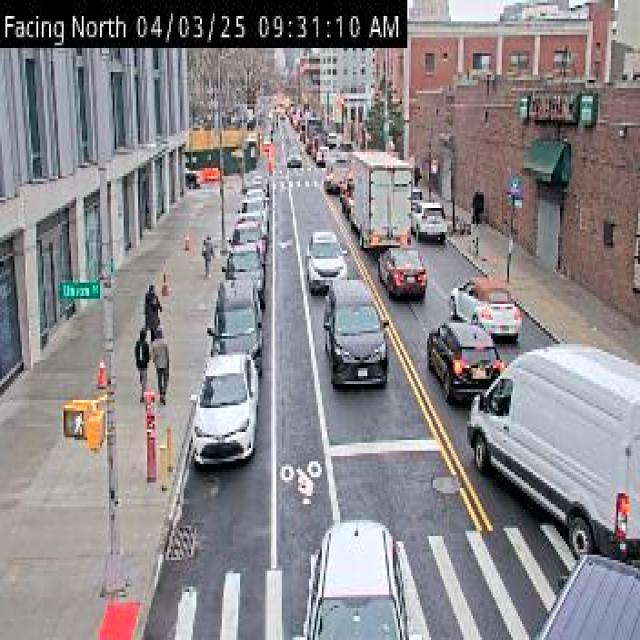open parking: (204, 166, 268, 603)
